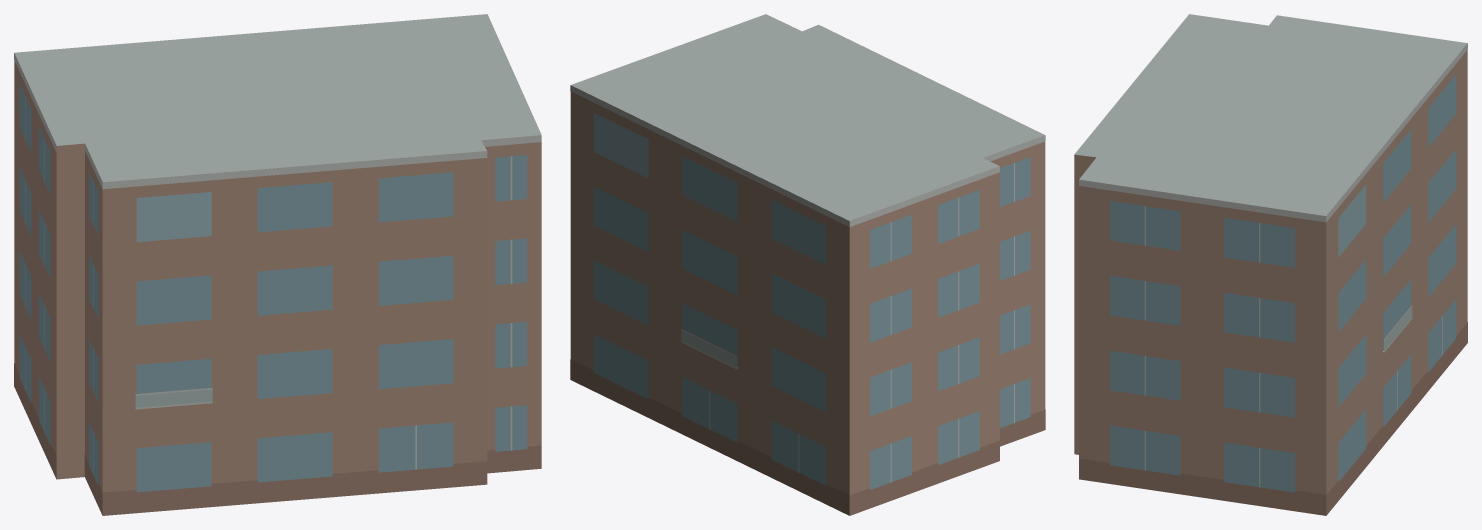
The model's file is survey-upis-32663506.glb.
3 views of the same model, side by side, from view 1: azimuth 30°, elevation 25°; view 2: azimuth 150°, elevation 25°; view 3: azimuth 270°, elevation 25° (orthographic). The views are drawn at different scales.
Parts seen in each view (by area): view 1: survey-upis-32663506.tmp; view 2: survey-upis-32663506.tmp; view 3: survey-upis-32663506.tmp.
Boxes of the visible parts, bbox=[...] form: survey-upis-32663506.tmp: bbox=[14, 14, 541, 515]; survey-upis-32663506.tmp: bbox=[570, 14, 1045, 515]; survey-upis-32663506.tmp: bbox=[1074, 14, 1467, 515].
Bounding box in the file's own units: 17.08 × 11.8 × 14.06.
